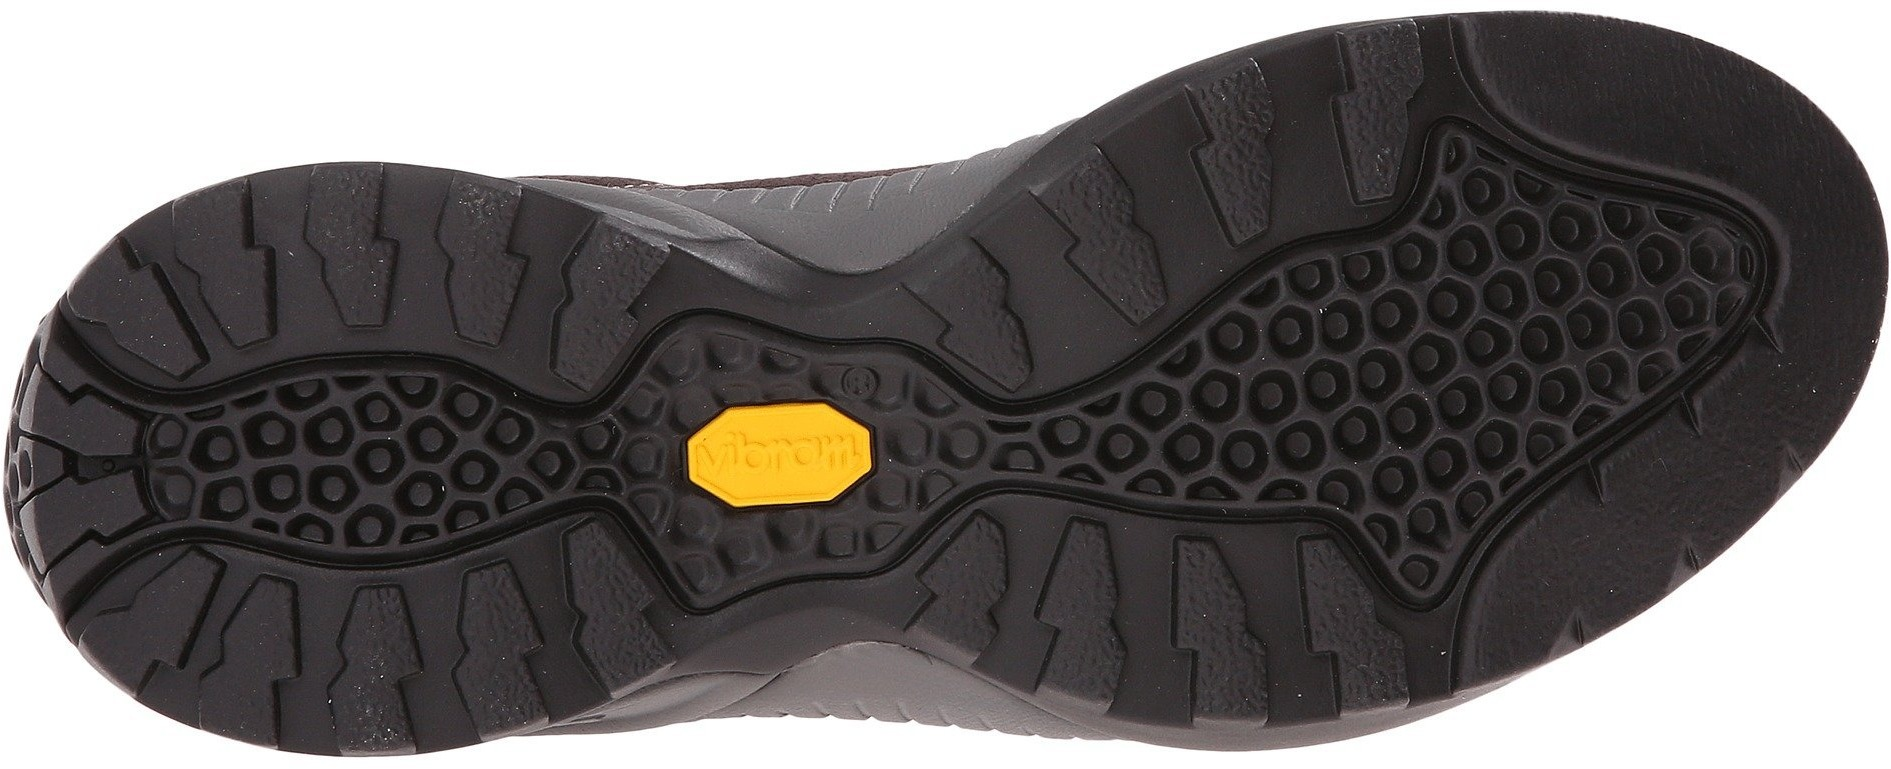circle: (1261, 268, 1534, 500)
other: (268, 171, 587, 378)
text: (686, 412, 868, 486)
